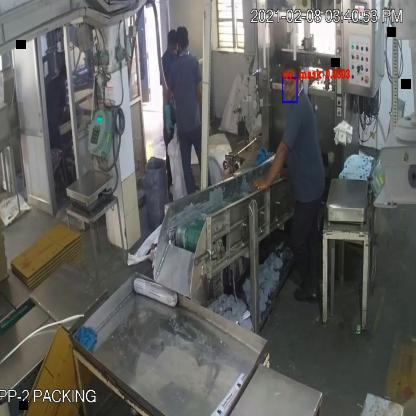no_glove: (247, 136, 291, 197)
